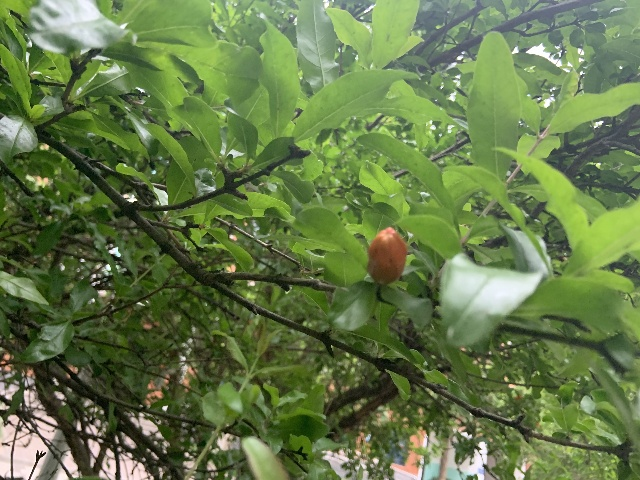bud: (367, 226, 407, 285)
